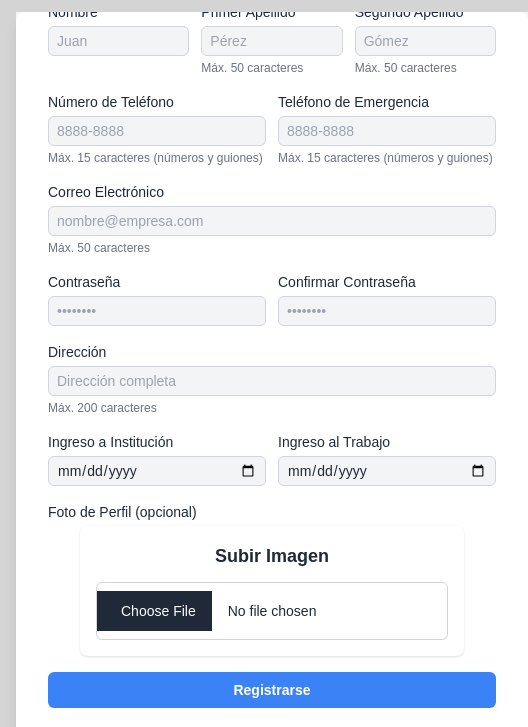
Test: Register Page Tests › should show validation errors for all required fields when submitting empty form
The width and height of the screenshot is (528, 727).
(page scrolled)
# Hacer clic en el botón Registrarse sin completar ningún campo
Step 1. Click the submit button → click(272, 690), box top-left (48, 672), bottom-right (496, 708)
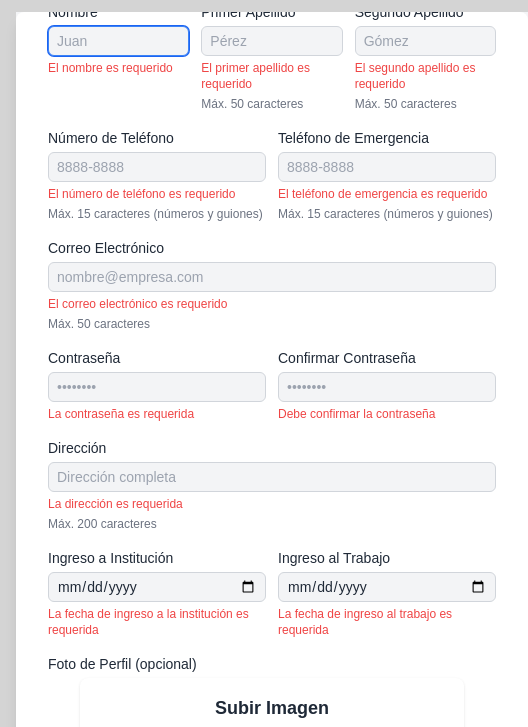
expect the text "El nombre es requerido" is shown: met, box top-left (48, 60), bottom-right (189, 76)
expect the text "El primer apellido es requerido" is shown: met, box top-left (201, 61), bottom-right (310, 91)
expect the text "El segundo apellido es requerido" is shown: met, box top-left (355, 60), bottom-right (496, 92)
